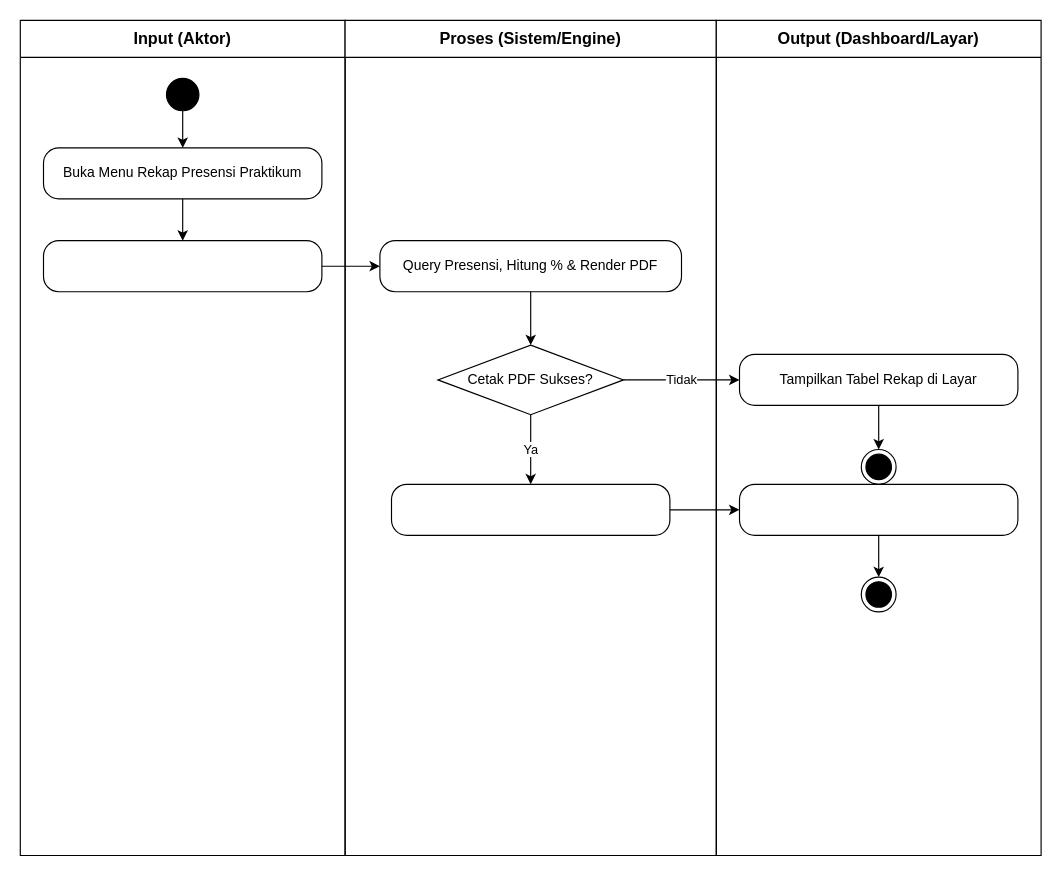
This 1061x876 diagram has some shape labels left out. The centre of each missing label's shape, as x and y in pixels:
"Download PDF & Tampilkan Rekap" belongs at (878,509).
"Generate Stream File PDF" belongs at (530,509).
"Pilih Filter & Klik Tampilkan / Cetak PDF" belongs at (182,266).
